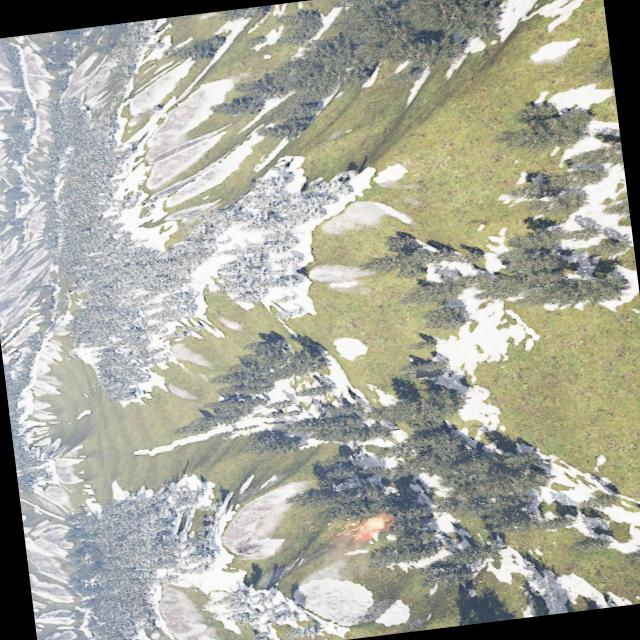fire: (356, 512, 390, 535)
smoke: (330, 516, 381, 567)
